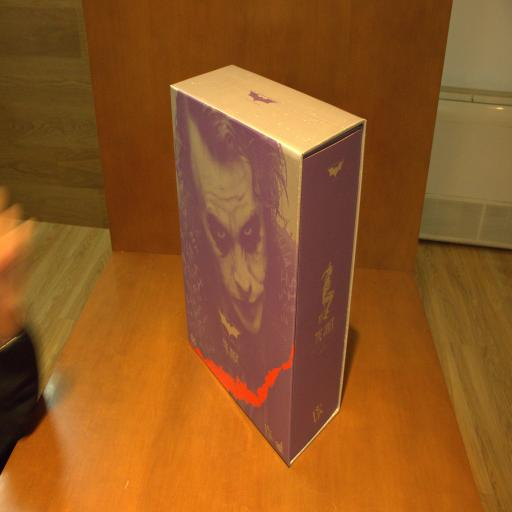Joker: (168, 62, 368, 462)
